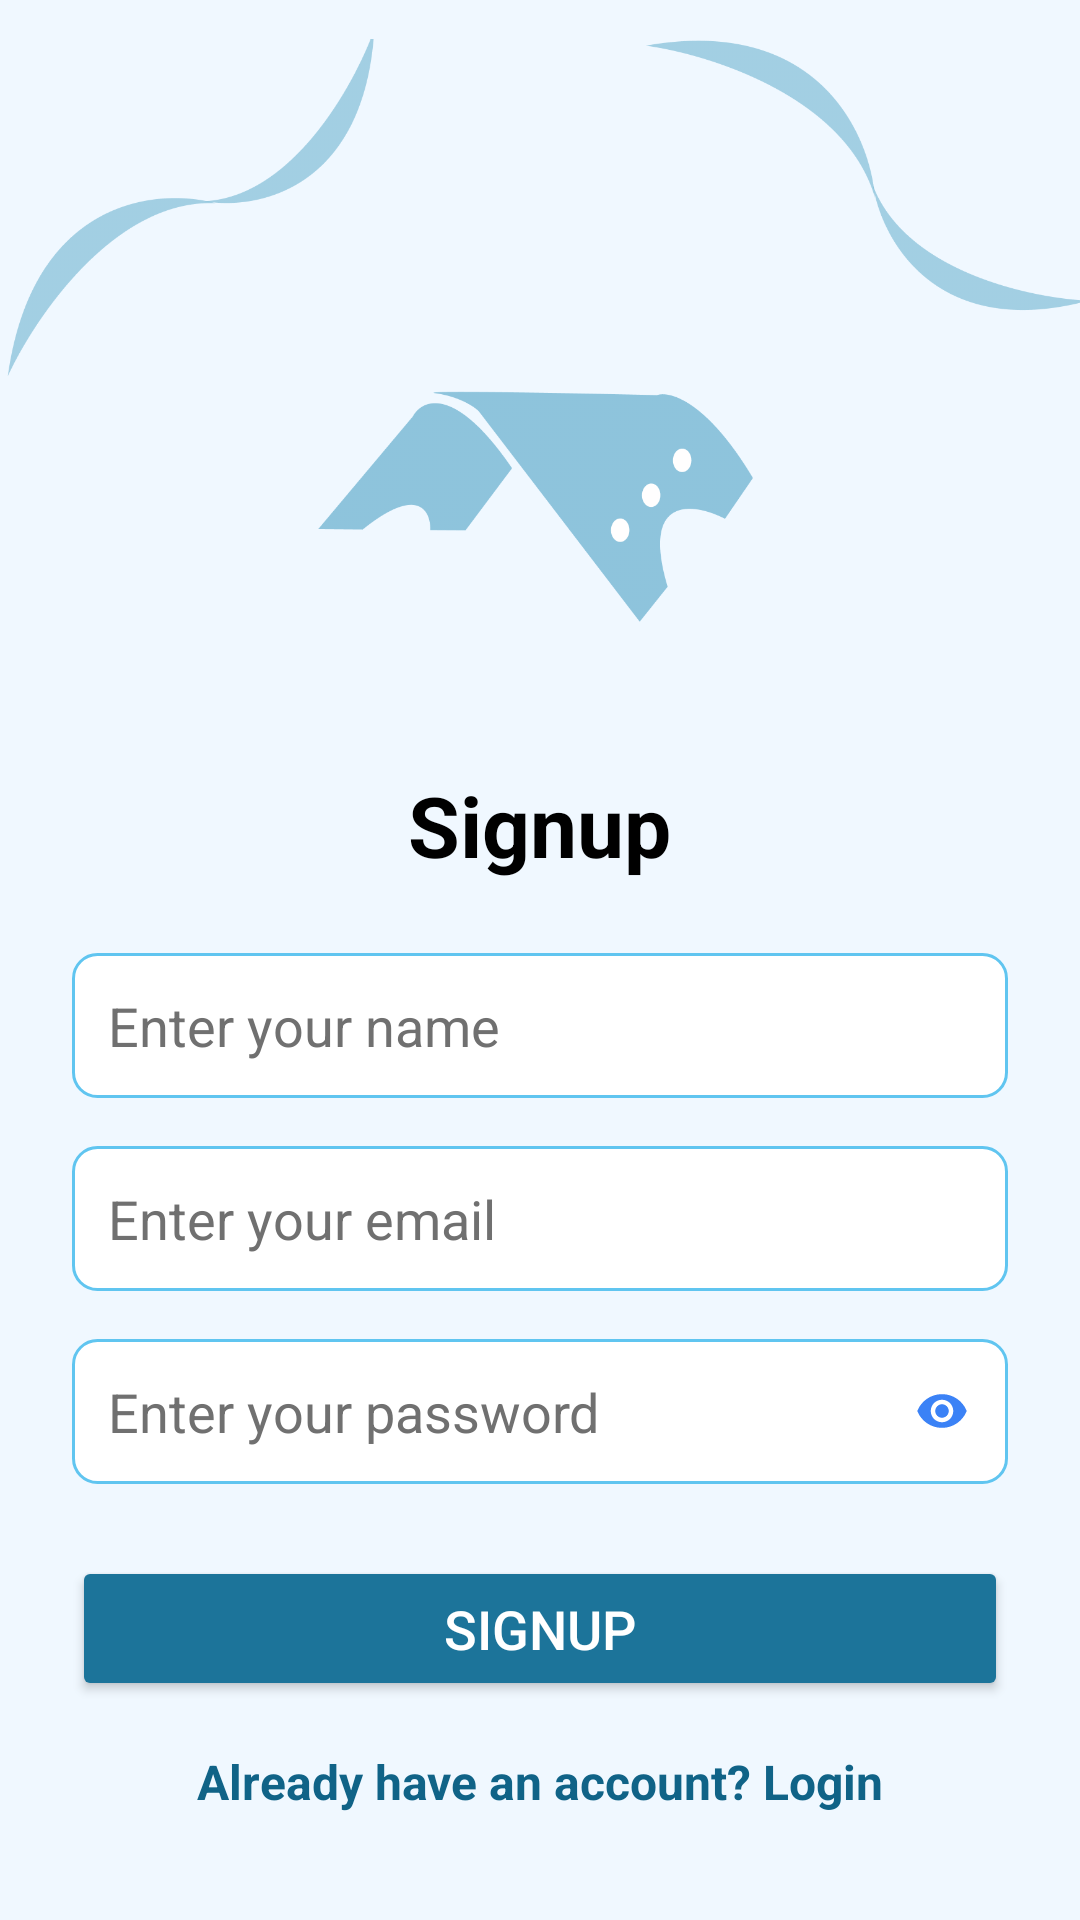

Icon bounding boxes for this 1080px x 1920px phone screenshot, format (x1, y1, x2, y2):
visibility on: (917, 1394, 967, 1428)
